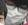with_mask: (1, 1, 28, 25)
